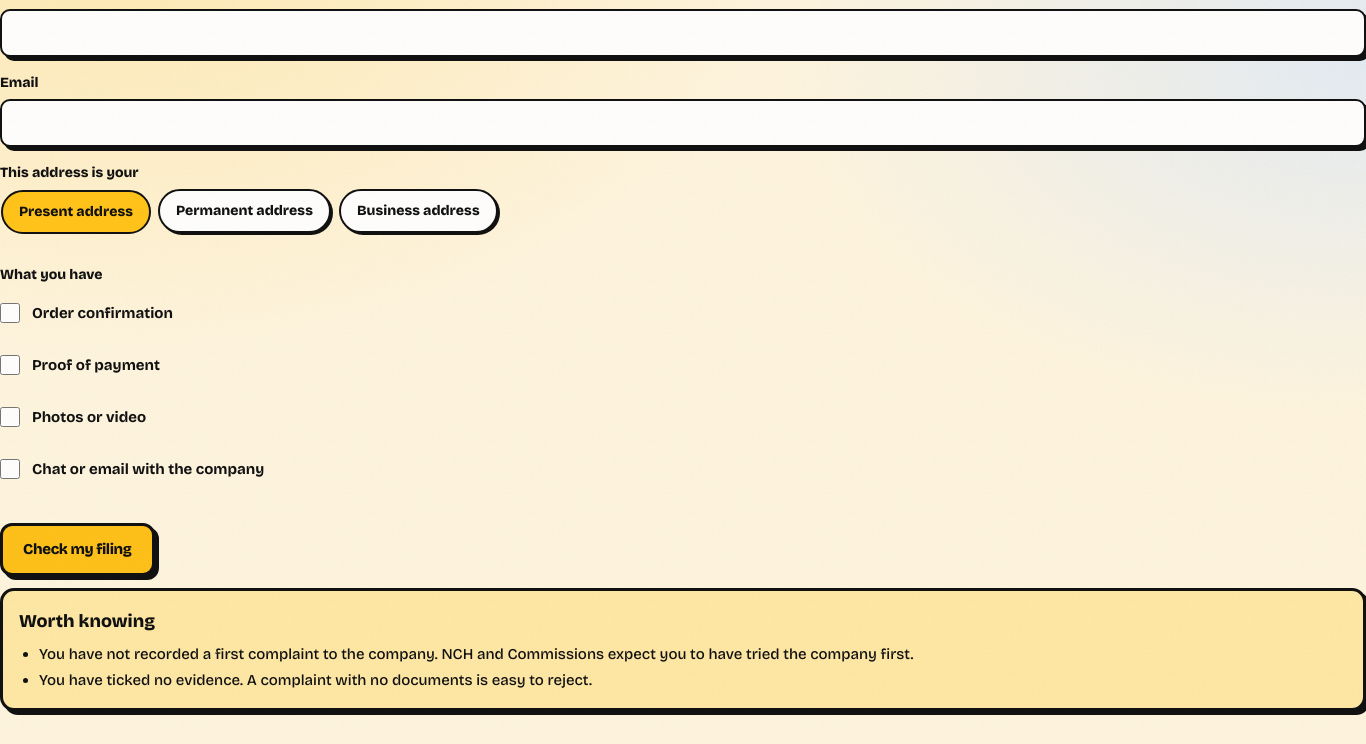
Test: FilingReady › lists blockers and shows no filing output until the facts are complete
(page scrolled)
Click the button "Check my filing" at (77,549), box left=0, top=523, right=155, bottom=576
(page scrolled)
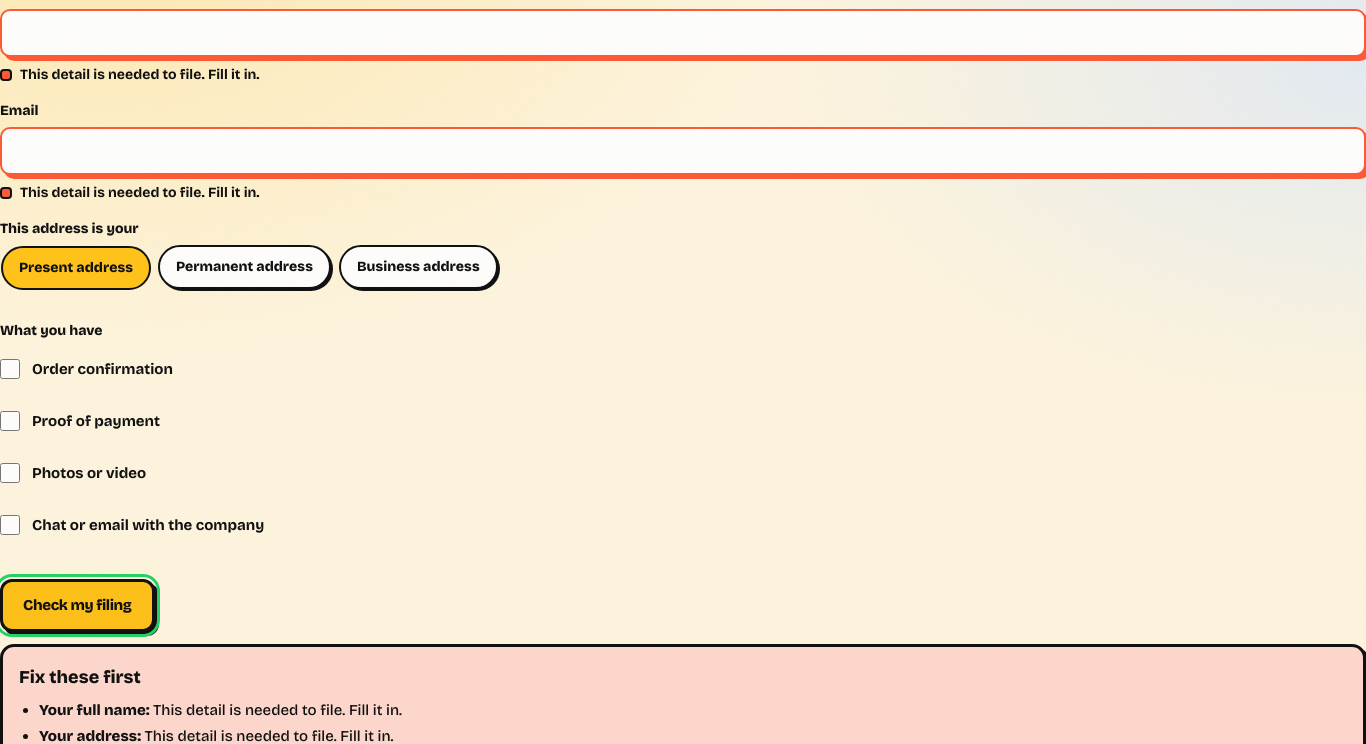
Now the heading "Fix these first" is shown, box left=19, top=666, right=141, bottom=688
